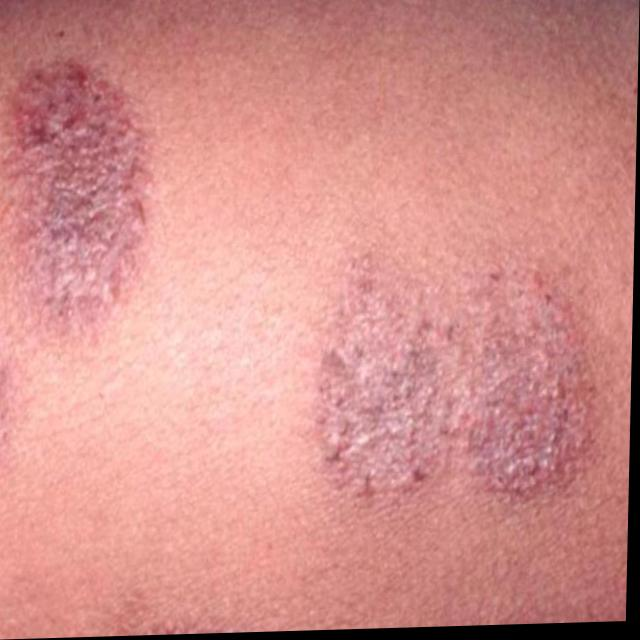scarring: (292, 277, 603, 531), (1, 57, 149, 323)
